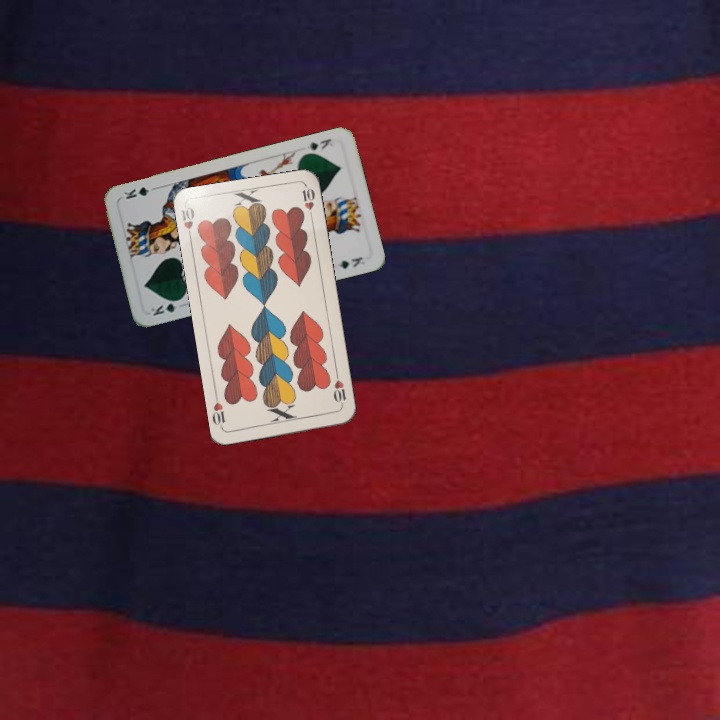GK: (147, 295, 185, 318), (303, 134, 334, 153)
H10: (329, 369, 349, 410), (177, 203, 197, 243)
